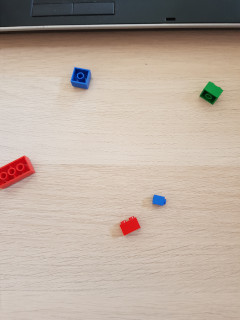1x1 blue: (150, 192, 167, 207)
1x2 red: (118, 215, 142, 236)
2x2 blue: (69, 66, 92, 90)
2x2 green: (199, 81, 225, 106)
